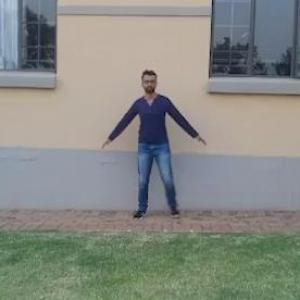land: (105, 74, 209, 231)
